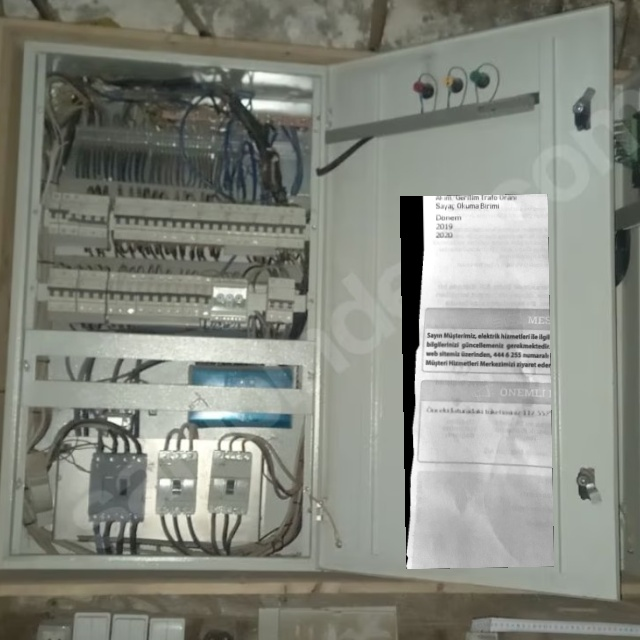electricity-bill: (399, 194, 553, 569)
